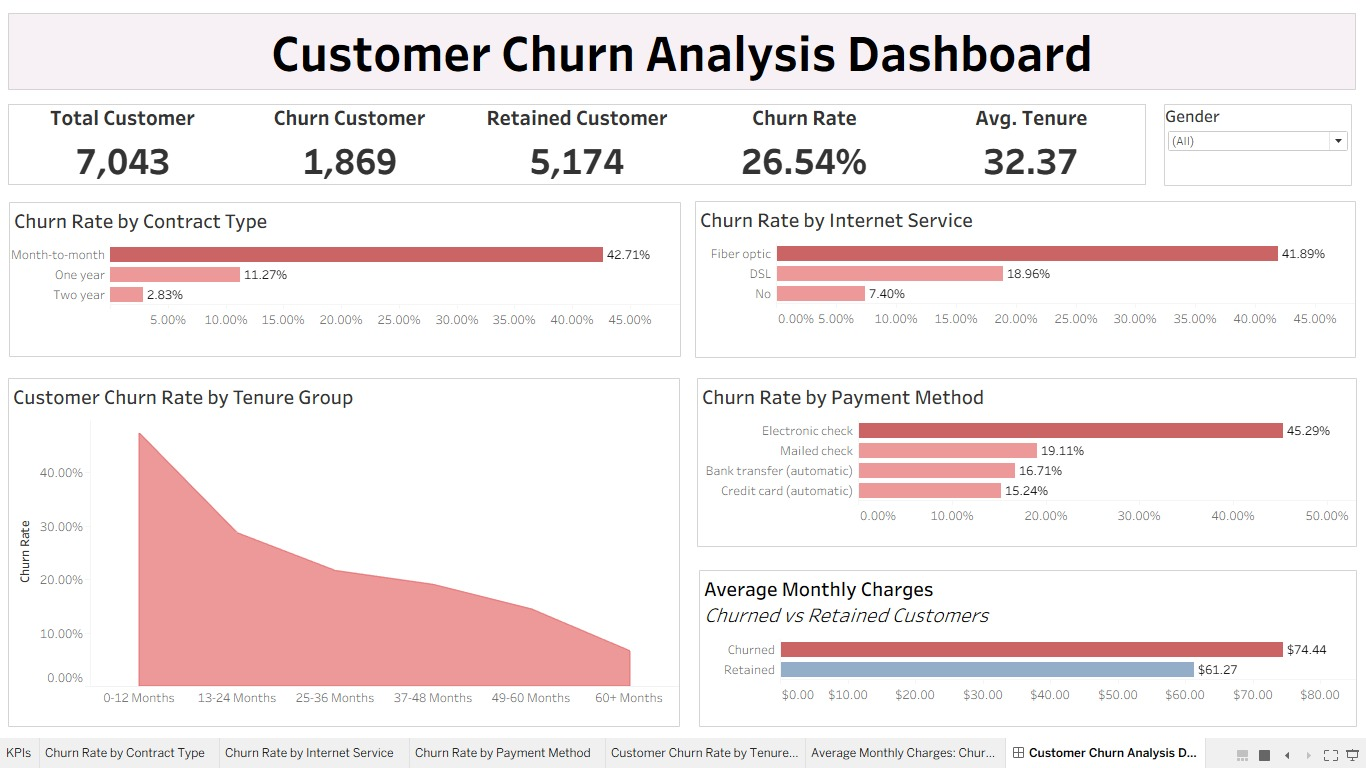

Layout of this report page (visuals, bound fields, positions):
{"tool":"tableau","page":{"name":"Customer Churn Analysis Dashboard","canvas":[1000,1000],"units":"permille","ordinal":0},"visuals":[{"type":"title","box":[6.9,13.7,986.1,71.9]},{"type":"text","box":[6,17.1,987.1,104.5]},{"type":"worksheet","title":"KPIs","mark":"Automatic","box":[6,140.4,832.9,109.6]},{"type":"filter","title":"Churn Rate by Contract Type","param":"[federated.0gpy5hz0x7nis01ek9aiy1h1nbv5].[none:gender:nk]","box":[851.9,140.4,137.8,111.3]},{"type":"worksheet","title":"Churn Rate by Internet Service","mark":"Automatic","rows":["InternetService"],"cols":["Calculation_1013505710374914"],"box":[509,272.3,484.1,212.3]},{"type":"worksheet","title":"Churn Rate by Contract Type","mark":"Automatic","rows":["Contract"],"cols":["Calculation_1013505710374914"],"box":[6.9,274,491.8,210.6]},{"type":"worksheet","title":"Customer Churn Rate by Tenure Group","mark":"Area","rows":["Calculation_1013505710374914"],"cols":["Calculation_1013505744474115"],"box":[6,512,491.8,472.6]},{"type":"worksheet","title":"Churn Rate by Payment Method","mark":"Automatic","rows":["PaymentMethod"],"cols":["Calculation_1013505710374914"],"box":[509.9,512,483.2,229.5]},{"type":"worksheet","title":"Average Monthly Charges: Churned vs Retained Customers","mark":"Automatic","rows":["Churn"],"cols":["MonthlyCharges"],"box":[511.6,772.3,481.5,212.3]}]}

Visuals, with their boxes on the dashboard's canvas, which has no fixed pixel size, in thousandths of its width and height (x1, y1, x2, y2). These are canvas units, not pixel positions in the 1366x768 screenshot, which may show the page scaled, cropped or inside an application window:
title: 7/14/993/86
text: 6/17/993/122
"KPIs" worksheet: 6/140/839/250
"Churn Rate by Contract Type" filter: 852/140/990/252
"Churn Rate by Internet Service" worksheet: 509/272/993/485
"Churn Rate by Contract Type" worksheet: 7/274/499/485
"Customer Churn Rate by Tenure Group" worksheet (Area marks): 6/512/498/985
"Churn Rate by Payment Method" worksheet: 510/512/993/742
"Average Monthly Charges: Churned vs Retained Customers" worksheet: 512/772/993/985
